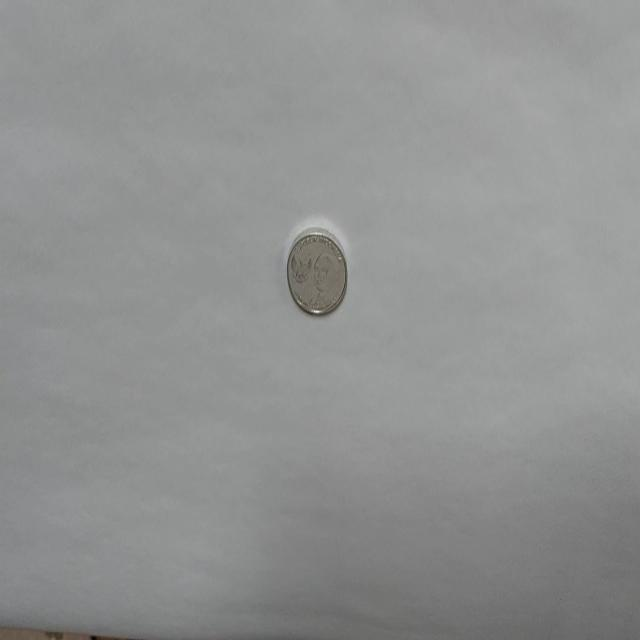lima ratus rupiah: (286, 226, 348, 316)
